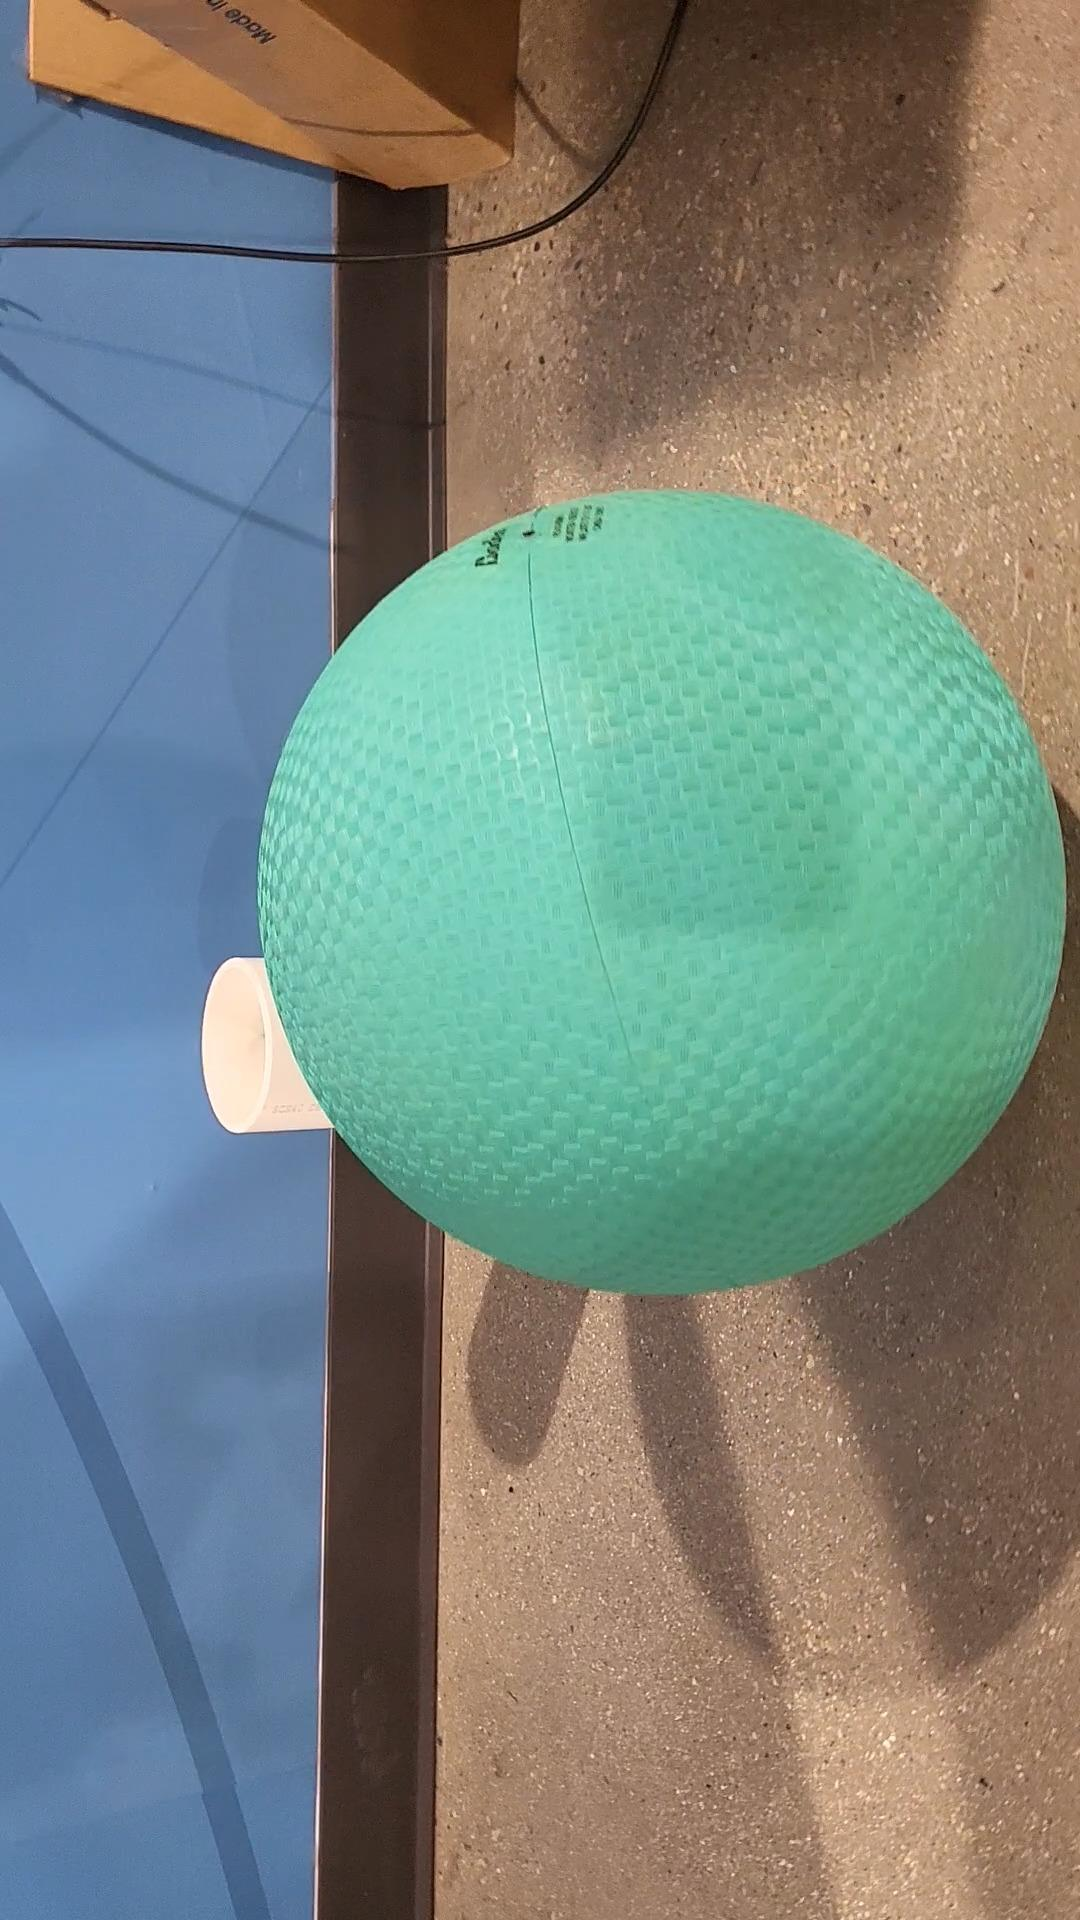algae: (257, 485, 1065, 1298)
coral: (198, 957, 368, 1138)
